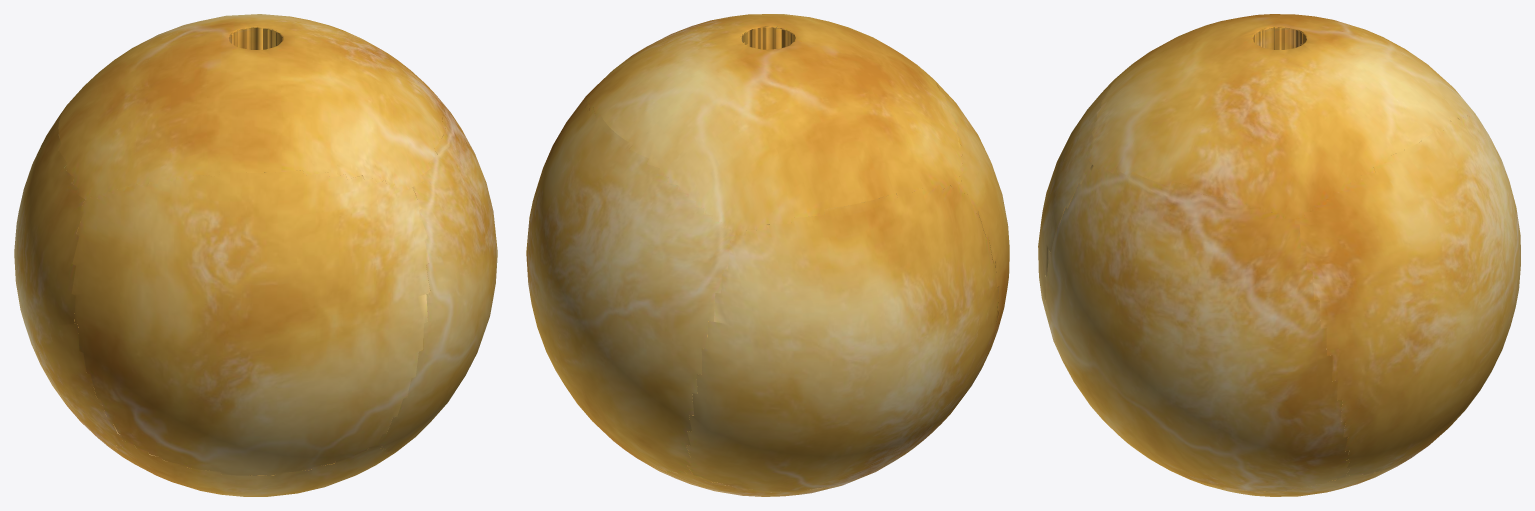
File: stone-citrine.glb
The picture shows the model from 3 angles, left to right: view 1: azimuth 30°, elevation 25°; view 2: azimuth 150°, elevation 25°; view 3: azimuth 270°, elevation 25°; orthographic projection.
Parts seen in each view (by area): view 1: Bead_hi; view 2: Bead_hi; view 3: Bead_hi.
Boxes of the visible parts, x1,y1,x2,y2 form: Bead_hi: (14, 14, 497, 496); Bead_hi: (526, 14, 1009, 496); Bead_hi: (1038, 14, 1520, 496).
Bounding box in the file's own units: 1 × 0.9939 × 0.9996.
1 material, 1 textured.
